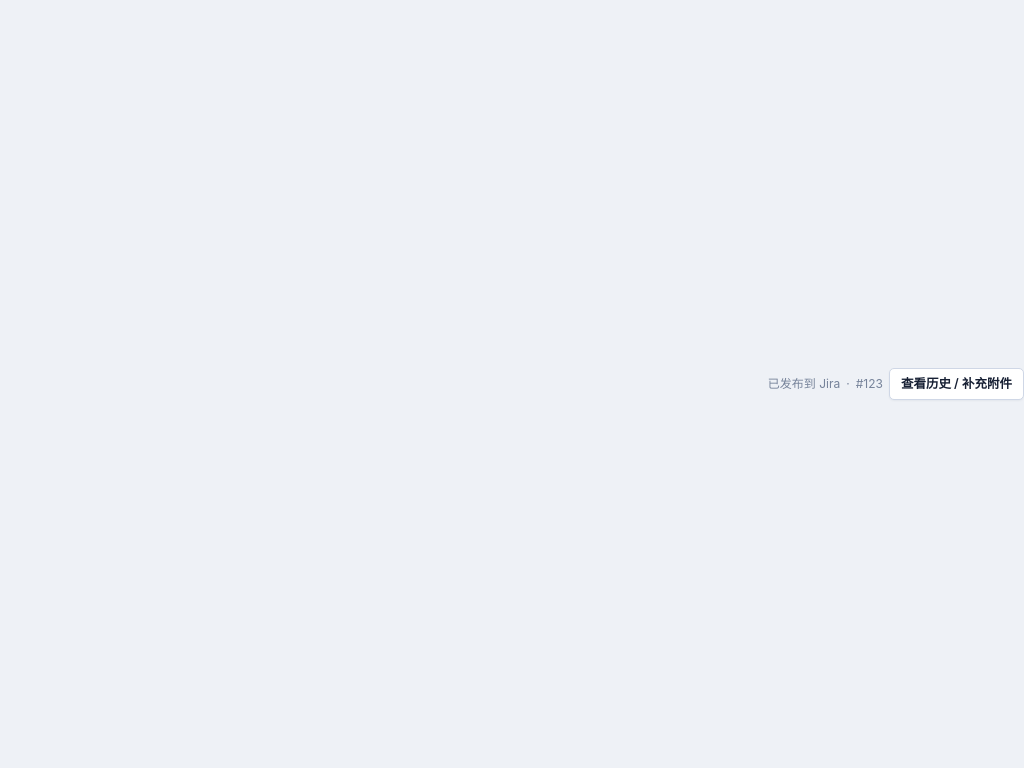
Test: reviewed publication › adds forgotten artifacts after publication without resending the comment
What coordinates should you click on to do the following:
click the button "查看历史 / 补充附件"
I would click on:
 (956, 384)
Its box is [889,368,1023,400].
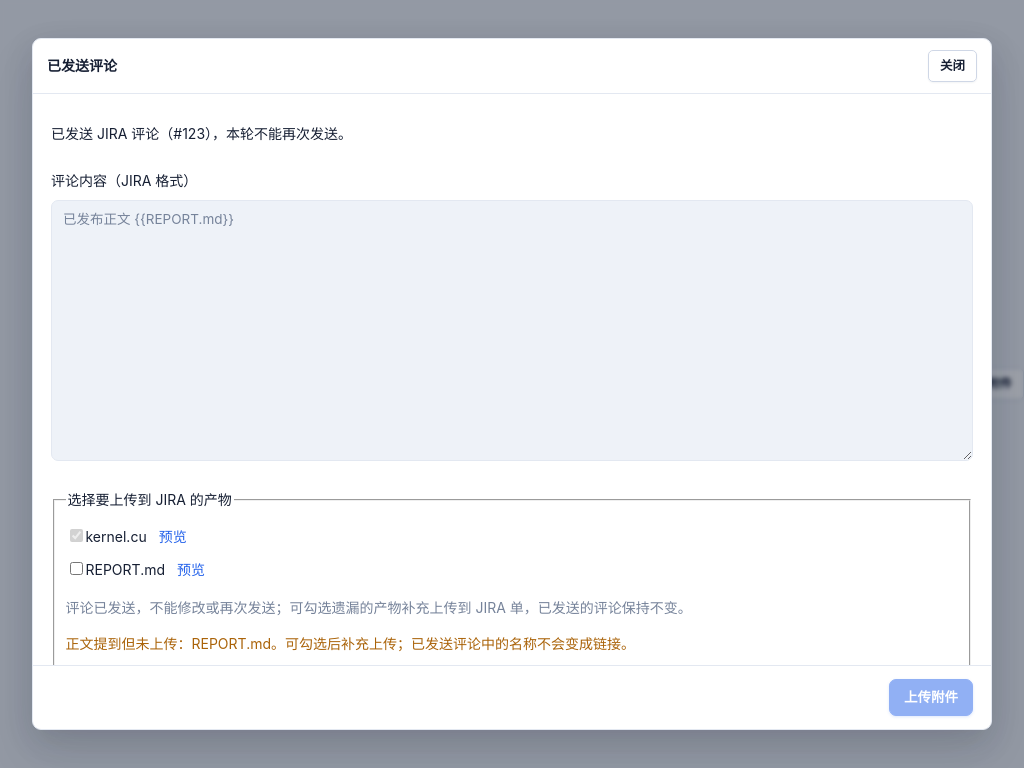
Now the checkbox labelled "kernel.cu" is checked, box [70,529,82,542]
Now the checkbox labelled "kernel.cu" is disabled, box [70,529,82,542]
Now the text box named "JIRA 评论内容" is disabled, box [51,200,973,461]
What coordinates should you click on to do the following:
click the checkbox labelled "REPORT.md"
I would click on:
 (76, 569)
Its box is [70,562,82,575].
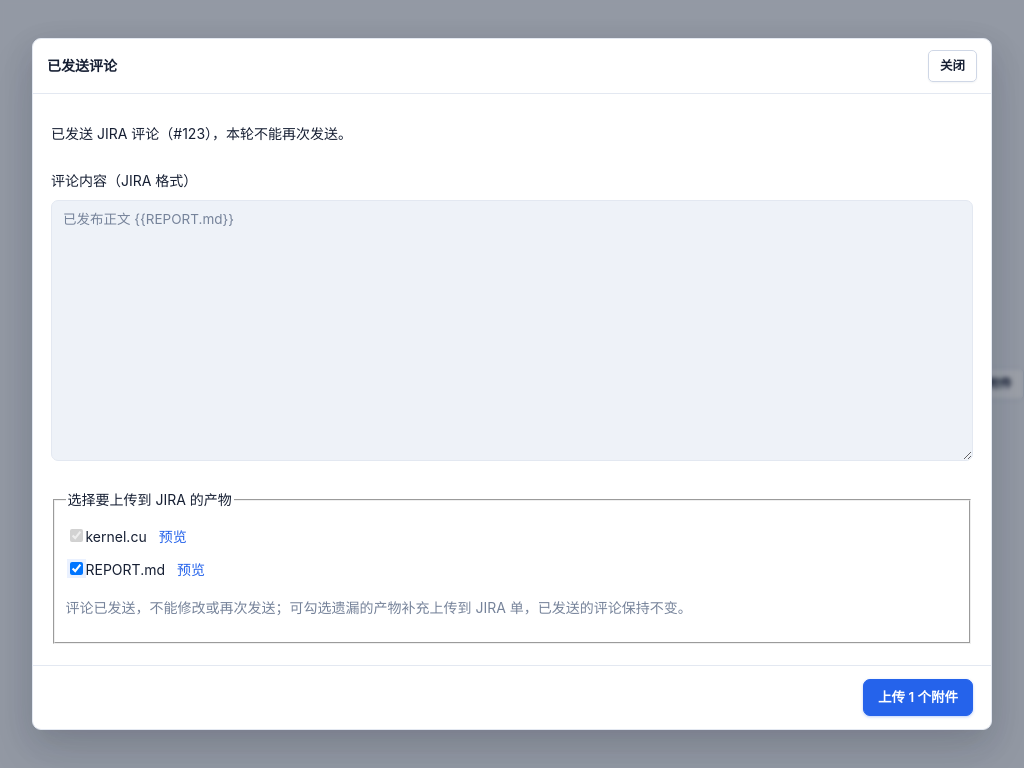
What coordinates should you click on to do the following:
click the button "上传 1 个附件"
I would click on:
 (918, 697)
Its box is [863,679,973,716].
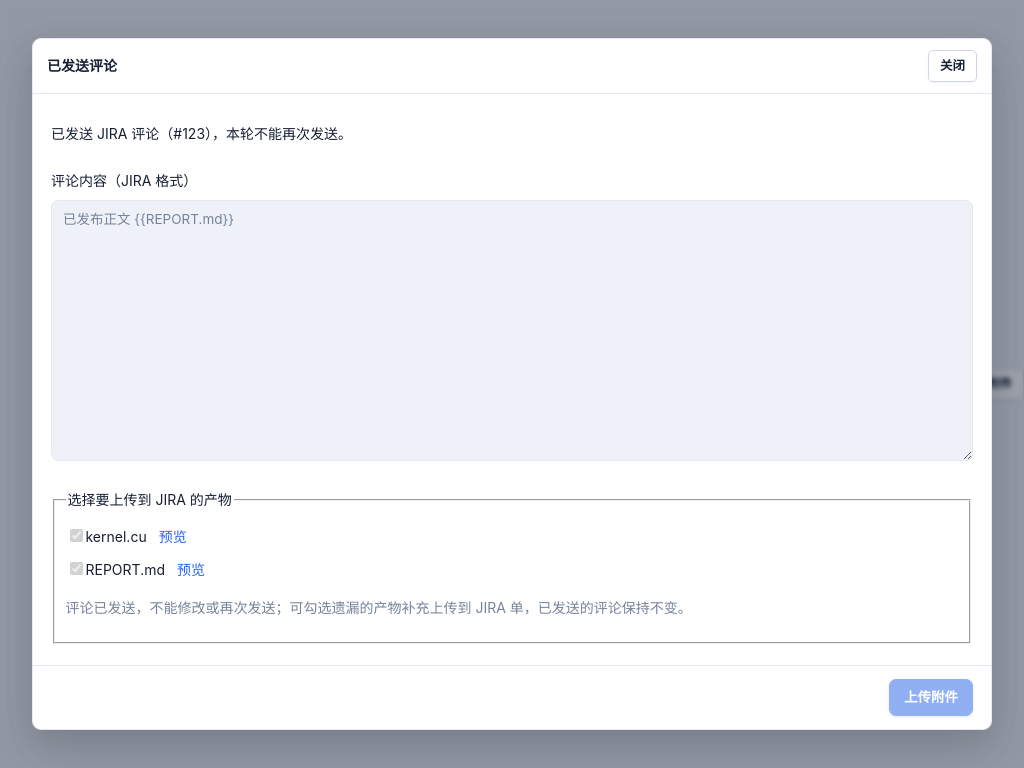
Now the checkbox labelled "REPORT.md" is disabled, box [70,562,82,575]
